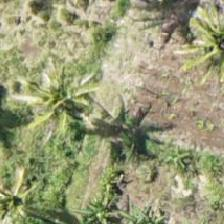coconut_tree: (20, 59, 110, 149), (176, 3, 223, 93), (0, 164, 54, 223)
